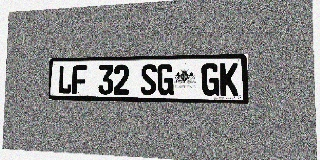2: (114, 65, 129, 95)
3: (98, 65, 113, 95)
F: (72, 65, 87, 94)
G: (202, 63, 220, 96), (157, 64, 174, 95)
K: (220, 63, 239, 96)
L: (58, 65, 72, 94)
S: (140, 64, 157, 95)
